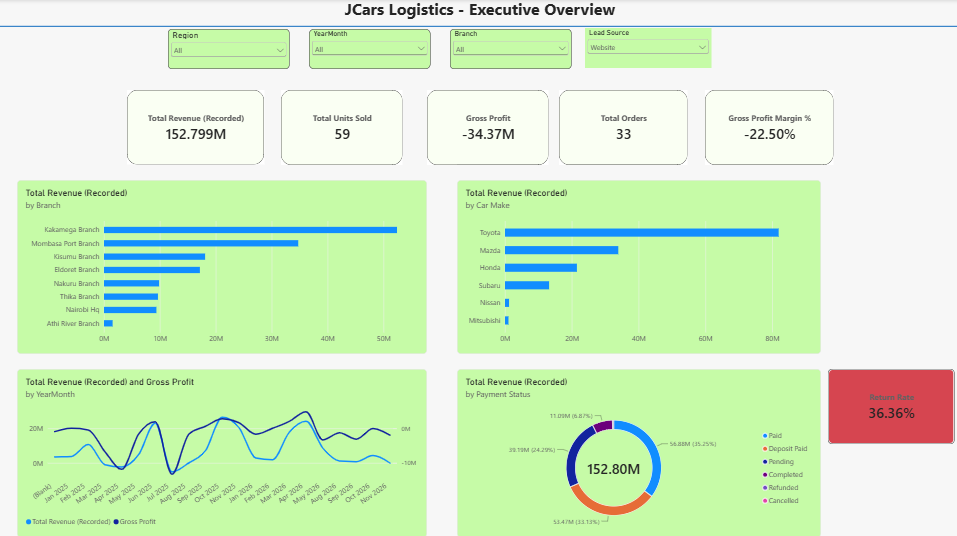

The dashboard page shown, as its layout file describes it:
{"tool":"powerbi","page":{"name":"Executive Dashboard","canvas":[1920,1080],"ordinal":0},"visuals":[{"type":"textbox","box":[0,0,1920,51.3],"z":0},{"type":"shape","box":[0,51.3,1920,13.2],"z":1000},{"type":"slicer","fields":{"Values":["Dim_Date.YearMonth"]},"box":[618.3,63.3,243.4,79.5],"z":2000},{"type":"slicer","fields":{"Values":["Dim_Branch.Region"]},"box":[336,63.3,243.4,79.5],"z":3000},{"type":"slicer","fields":{"Values":["Dim_Branch.Branch"]},"box":[900.6,63.3,243.3,80],"z":4000},{"type":"cardVisual","fields":{"Data":["Fact_Sales.Total Revenue (Recorded)"]},"box":[253.2,185.7,274.7,149.4],"z":5000},{"type":"cardVisual","fields":{"Data":["Fact_Sales.Gross Profit Margin %"]},"box":[1409.8,185.7,257,150],"z":6000},{"type":"cardVisual","fields":{"Data":["Fact_Sales.Total Orders"]},"box":[1118.1,185.7,257,150],"z":7000},{"type":"cardVisual","fields":{"Data":["Fact_Sales.Total Units Sold"]},"box":[562.6,185.7,243,150],"z":8000},{"type":"cardVisual","fields":{"Data":["Fact_Sales.Gross Profit"]},"box":[853.3,185.7,243,150],"z":9000},{"type":"lineChart","fields":{"Category":["Dim_Date.YearMonth"],"Y":["Fact_Sales.Total Revenue (Recorded)"],"Y2":["Fact_Sales.Gross Profit"]},"box":[33.3,743.3,820,336.7],"z":10000},{"type":"clusteredBarChart","fields":{"Category":["Dim_Branch.Branch"],"Y":["Fact_Sales.Total Revenue (Recorded)"]},"box":[33.3,365,820,348.3],"z":11000},{"type":"clusteredBarChart","fields":{"Category":["Dim_Vehicle.Car Make"],"Y":["Fact_Sales.Total Revenue (Recorded)"]},"box":[914,366,714,348],"z":12000},{"type":"donutChart","fields":{"Category":["Fact_Sales.Payment Status"],"Y":["Fact_Sales.Total Revenue (Recorded)"]},"box":[913.3,743.3,728,337],"z":13000},{"type":"cardVisual","fields":{"Data":["Fact_Sales.Return Rate"]},"box":[1655,743.3,253,150],"z":14000},{"type":"slicer","fields":{"Values":["Fact_Sales.Lead Source"]},"box":[1169.1,62.8,253.1,80.3],"z":15000}]}

Visuals, with their boxes in screenshot pixels (x1, y1, x2, y2), scaled from the page's 1920x1080 canvas onto the 957x536 screenshot:
textbox: box(0, 0, 956, 25)
shape: box(0, 25, 956, 32)
slicer - Dim_Date.YearMonth: box(308, 31, 430, 71)
slicer - Dim_Branch.Region: box(167, 31, 289, 71)
slicer - Dim_Branch.Branch: box(449, 31, 570, 71)
cardVisual - Fact_Sales.Total Revenue (Recorded): box(126, 92, 263, 166)
cardVisual - Fact_Sales.Gross Profit Margin %: box(703, 92, 831, 167)
cardVisual - Fact_Sales.Total Orders: box(557, 92, 685, 167)
cardVisual - Fact_Sales.Total Units Sold: box(280, 92, 402, 167)
cardVisual - Fact_Sales.Gross Profit: box(425, 92, 546, 167)
lineChart - Dim_Date.YearMonth x Fact_Sales.Total Revenue (Recorded): box(17, 369, 425, 535)
clusteredBarChart - Dim_Branch.Branch x Fact_Sales.Total Revenue (Recorded): box(17, 181, 425, 354)
clusteredBarChart - Dim_Vehicle.Car Make x Fact_Sales.Total Revenue (Recorded): box(456, 182, 811, 354)
donutChart - Fact_Sales.Payment Status x Fact_Sales.Total Revenue (Recorded): box(455, 369, 818, 535)
cardVisual - Fact_Sales.Return Rate: box(825, 369, 951, 443)
slicer - Fact_Sales.Lead Source: box(583, 31, 709, 71)
